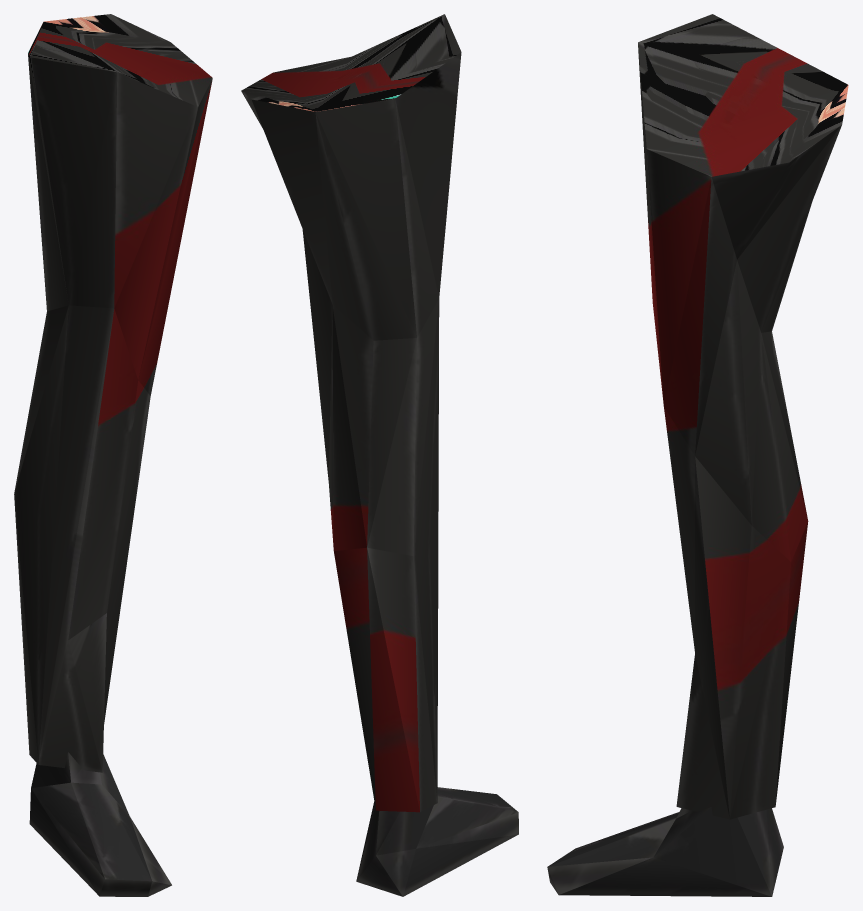
File: bloody foot.fbx
The picture shows the model from 3 angles, left to right: view 1: azimuth 30°, elevation 25°; view 2: azimuth 150°, elevation 25°; view 3: azimuth 270°, elevation 25°; orthographic projection. The views are drawn at different scales.
Visible parts, largest first — view 1: Human 2; view 2: Human 2; view 3: Human 2.
Boxes of the visible parts, x1=… form: Human 2: x1=14, y1=14, x2=212, y2=896; Human 2: x1=241, y1=14, x2=518, y2=896; Human 2: x1=547, y1=14, x2=848, y2=896.
Bounding box in the file's own units: 20.75 × 87.17 × 28.03.
1 material, 1 textured.
